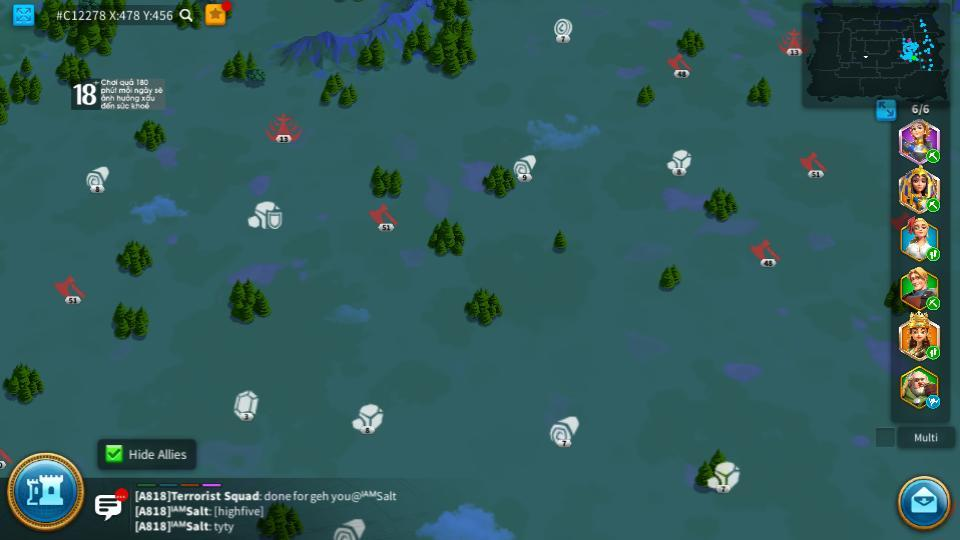gem-z-out: (233, 389, 259, 418), (356, 404, 383, 429)
march_idle: (925, 396, 942, 408)
march_marching: (925, 197, 941, 212), (925, 347, 941, 359), (925, 150, 941, 162), (925, 248, 941, 260), (925, 297, 942, 308)
